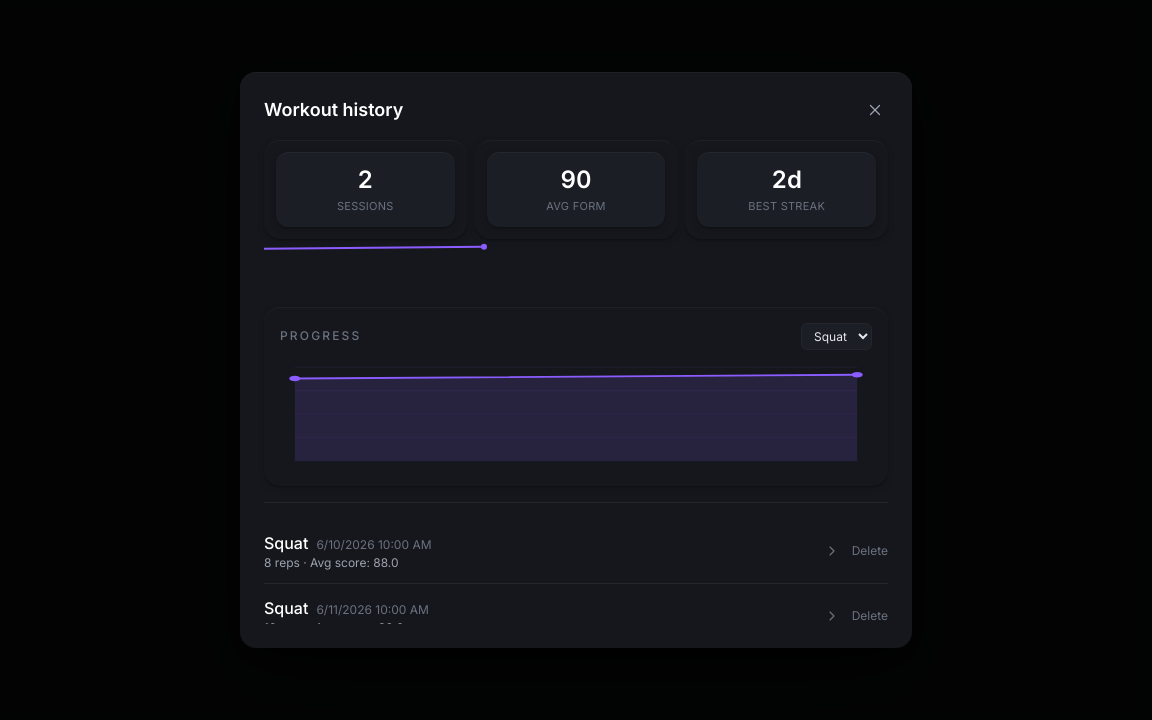
Test: HistoryPanel (UI-06) › opens a tap-in session detail view that reuses the per-rep timeline primitives
Click the button with test id "history-row-open": click(286, 542) [264, 530, 840, 570]
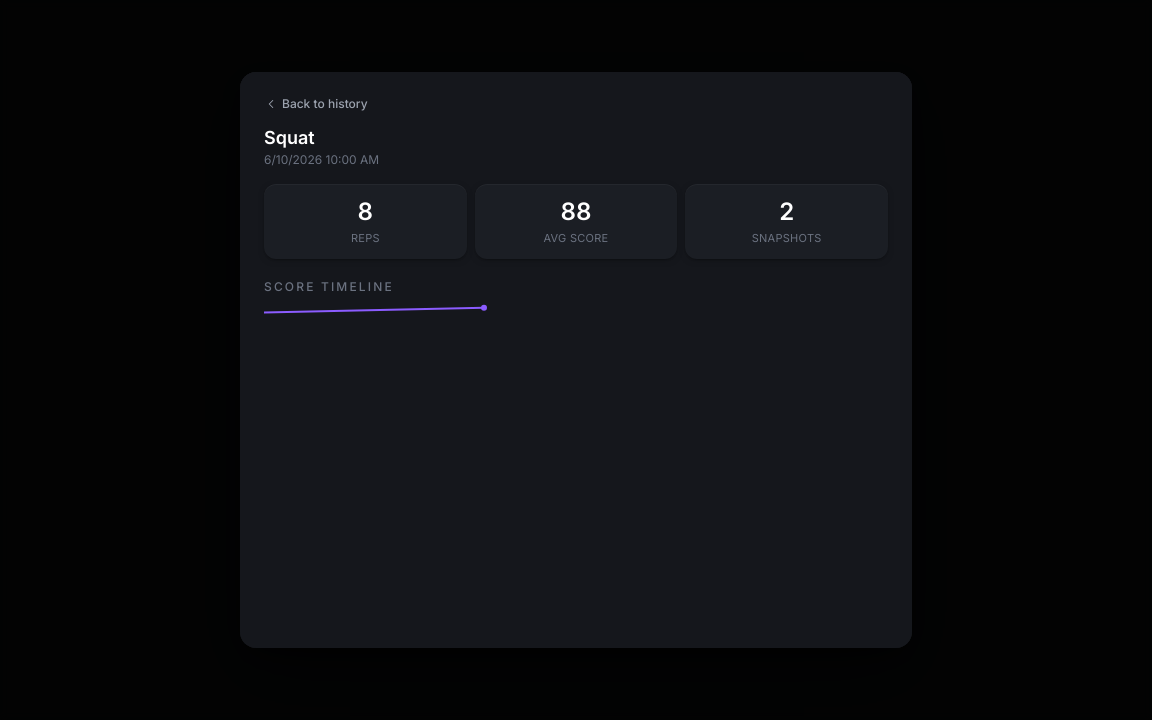
Expected: the element with test id "history-session-detail" is shown, [240, 72, 912, 648]
Expected: the text "Snapshots" is shown, [752, 231, 822, 245]
